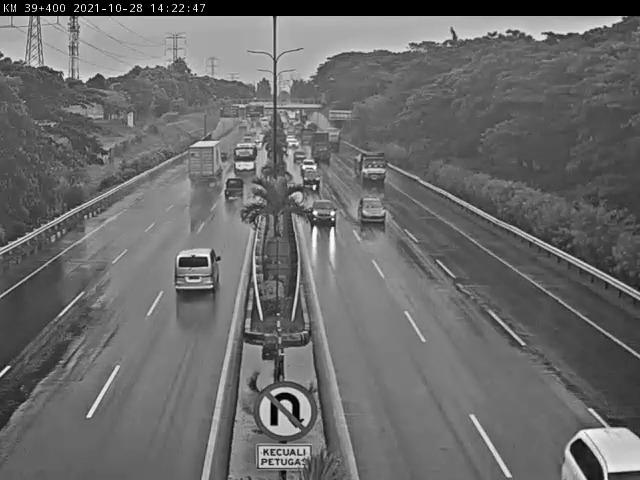big bus: (227, 147, 259, 183)
big truck: (174, 142, 222, 194), (355, 150, 390, 182), (307, 130, 328, 159)
car: (552, 422, 640, 480), (170, 245, 222, 295), (221, 177, 251, 211), (355, 194, 387, 224), (311, 200, 338, 224), (301, 169, 321, 186), (292, 149, 307, 164), (302, 158, 317, 173), (249, 137, 265, 151)
